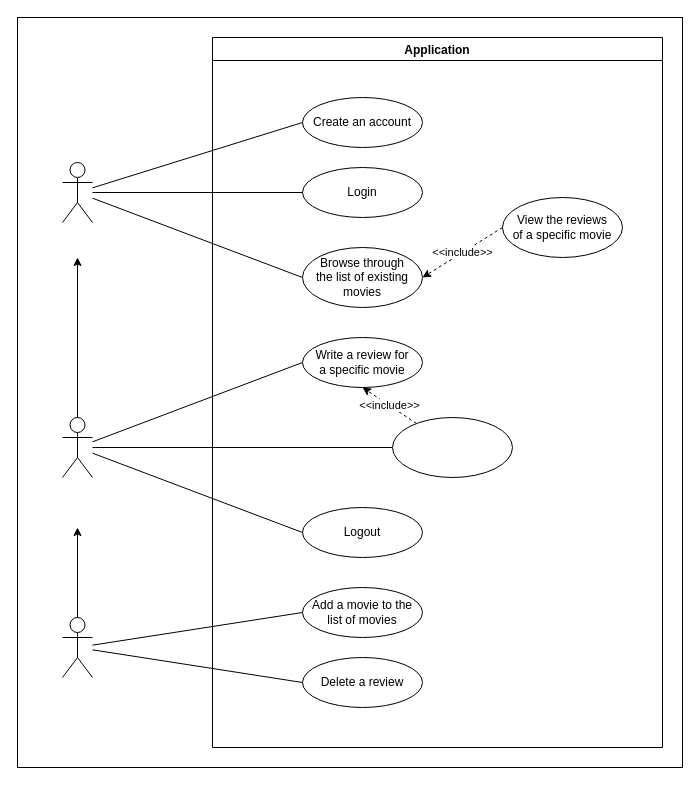
Some shapes in this 700 by 785 pixel diagram are drawn without their labels. The shapes that lost their labels are listed below. From the top down, each one's centre as x and y in pixels, then its label:
(77,192): Unauthenticated User
(77,447): Authenticated User
(452,447): Update/delete previously written reviews
(77,647): Administrator
